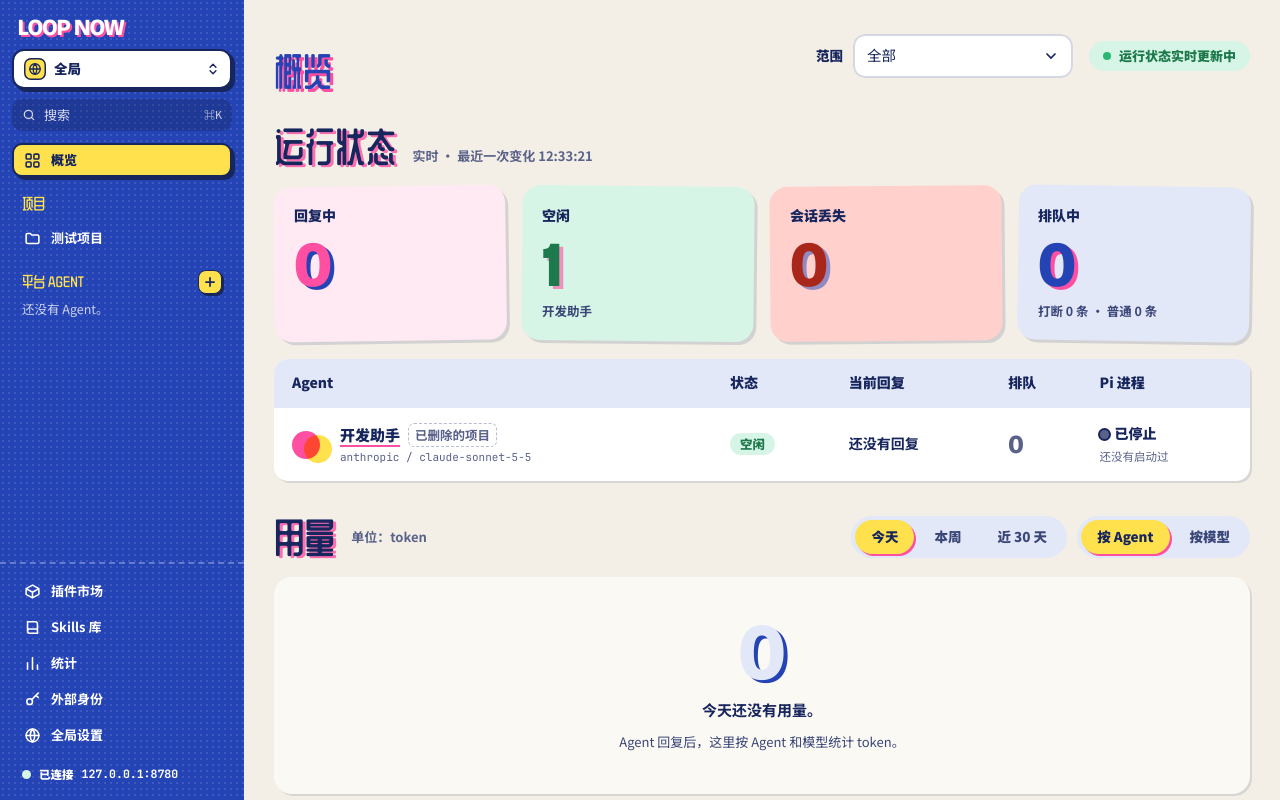
it: 运行状态 › 点击 Agent 进入它的对话页
Expected: the heading "概览" is shown, [274,52,332,90]
Click the link "开发助手 已删除的项目 anthropic / claude-sonnet-5-5" at {"x": 412, "y": 443}, box [292,423,531,464]
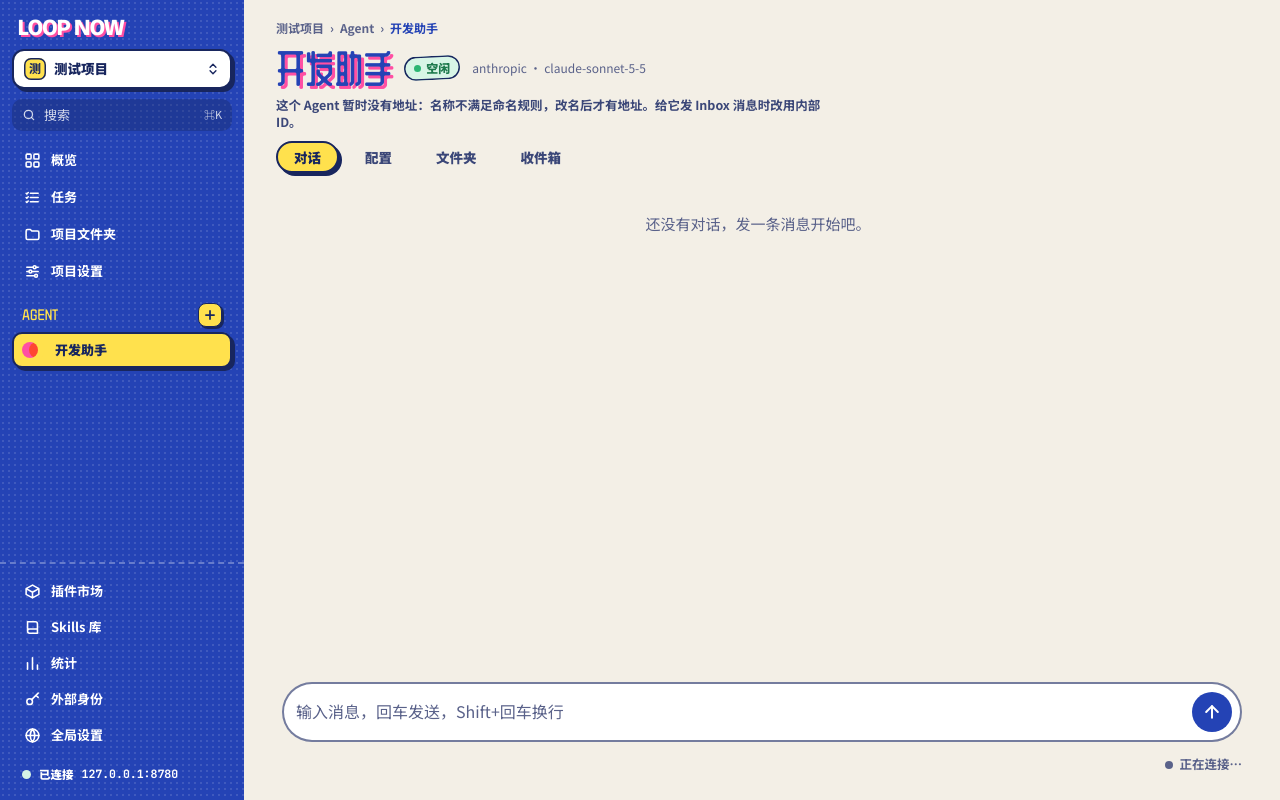
Expected: the element "对话" is shown, [646,215,870,233]
